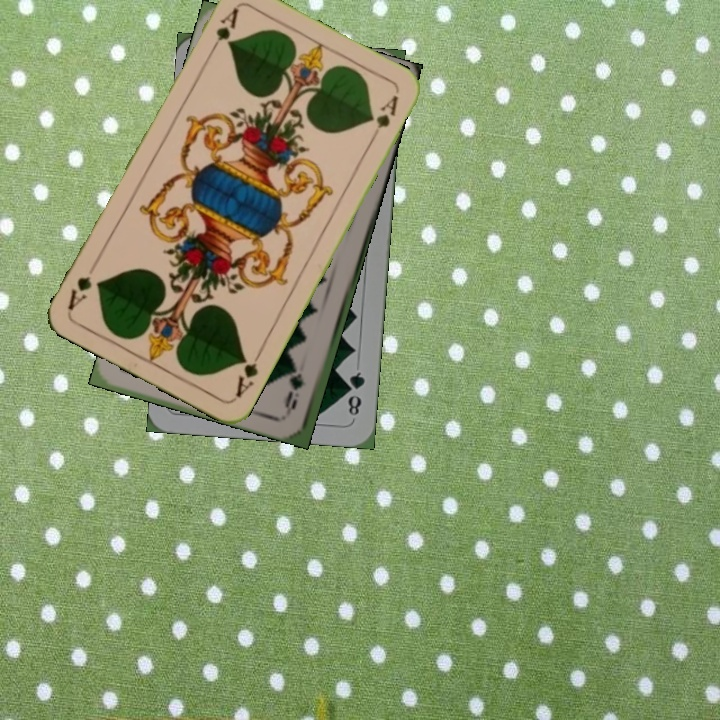G8: (342, 367, 368, 418)
G9: (283, 369, 307, 416)
GA: (205, 3, 241, 58), (231, 346, 265, 401)
